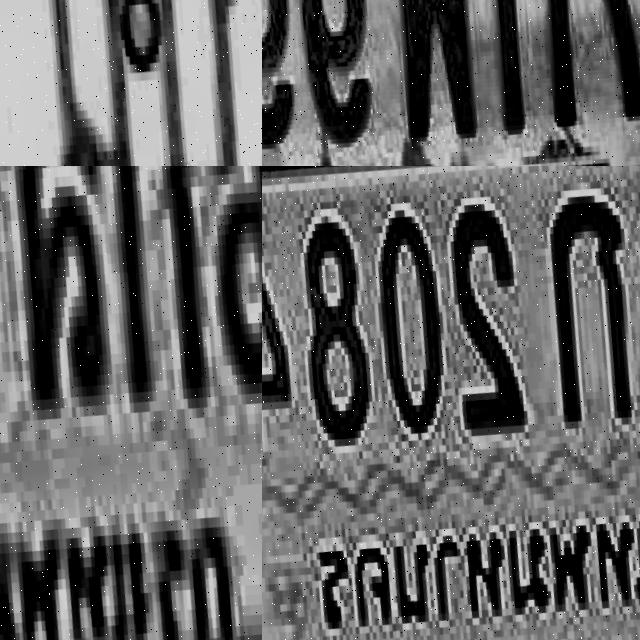license-plate: (262, 166, 640, 640), (0, 166, 262, 640), (262, 0, 640, 166), (0, 0, 262, 166)
